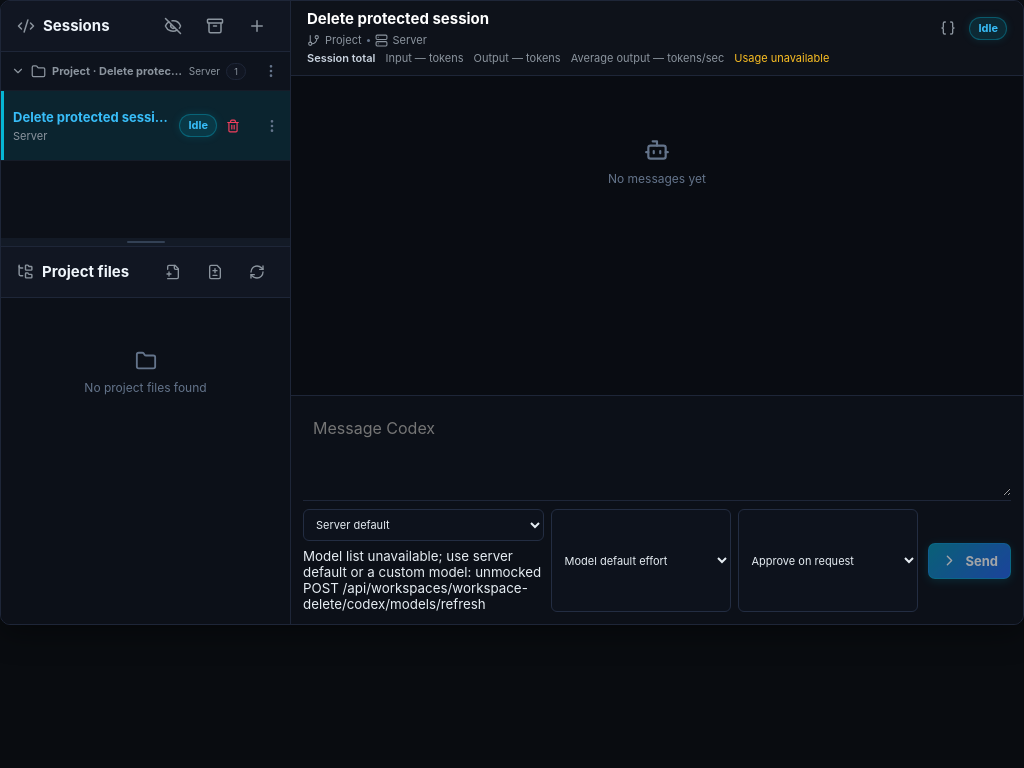
requires the accessible danger dialog before deleting a session
Step 1. Click the button titled "Delete session" → {"x": 233, "y": 126}, box [220, 112, 246, 138]
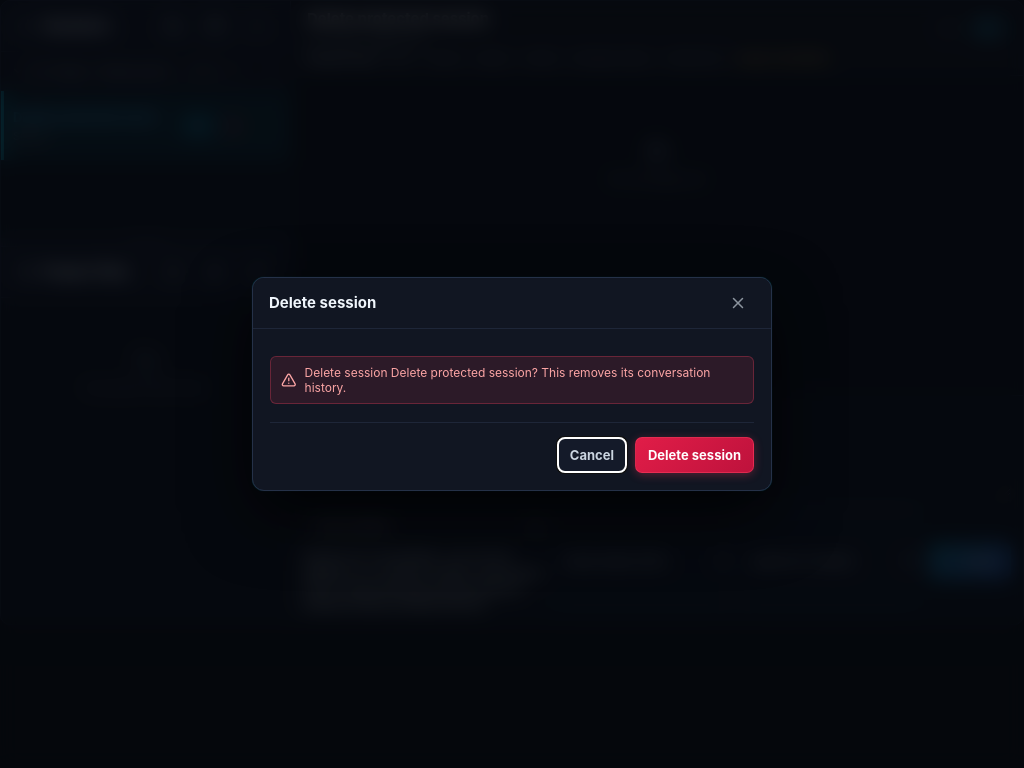
Step 2. Click the button "Delete session" → {"x": 694, "y": 455}, box [635, 437, 754, 473]
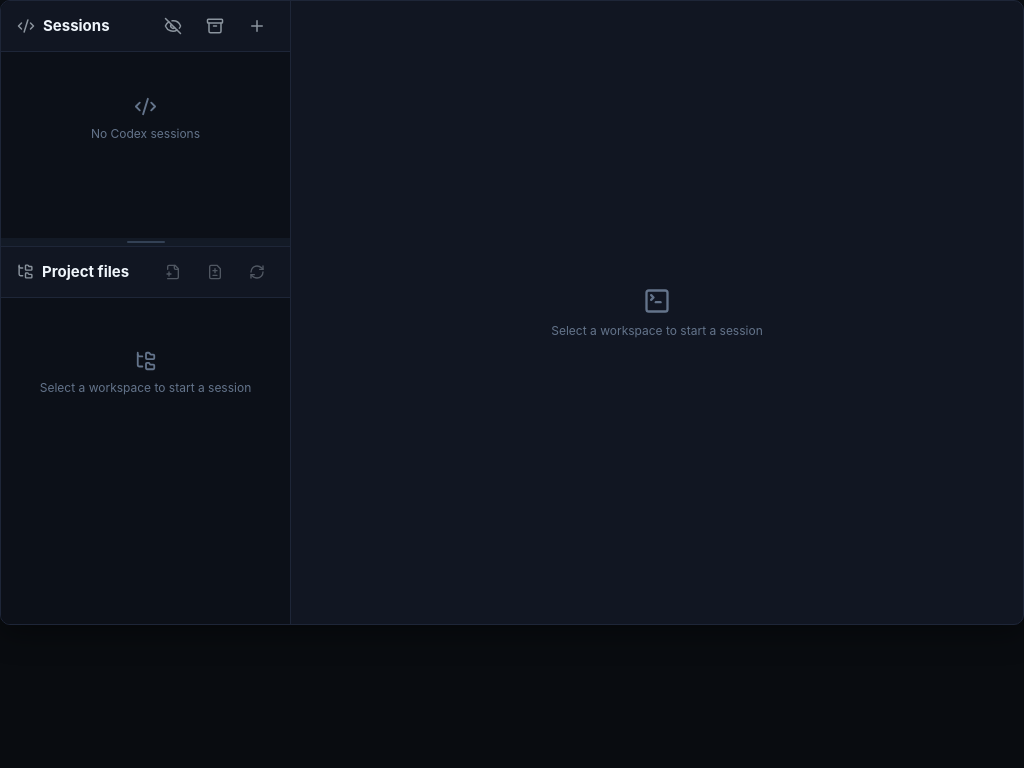
Now the heading "Delete session" is gone
